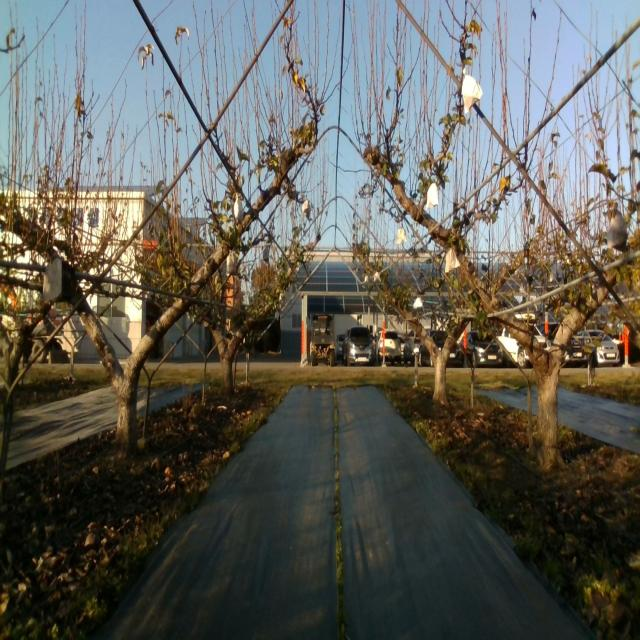pearbags: (606, 203, 628, 251), (462, 69, 482, 112), (444, 248, 460, 273), (426, 182, 439, 209), (234, 194, 244, 223), (226, 250, 236, 275), (397, 223, 408, 245)
